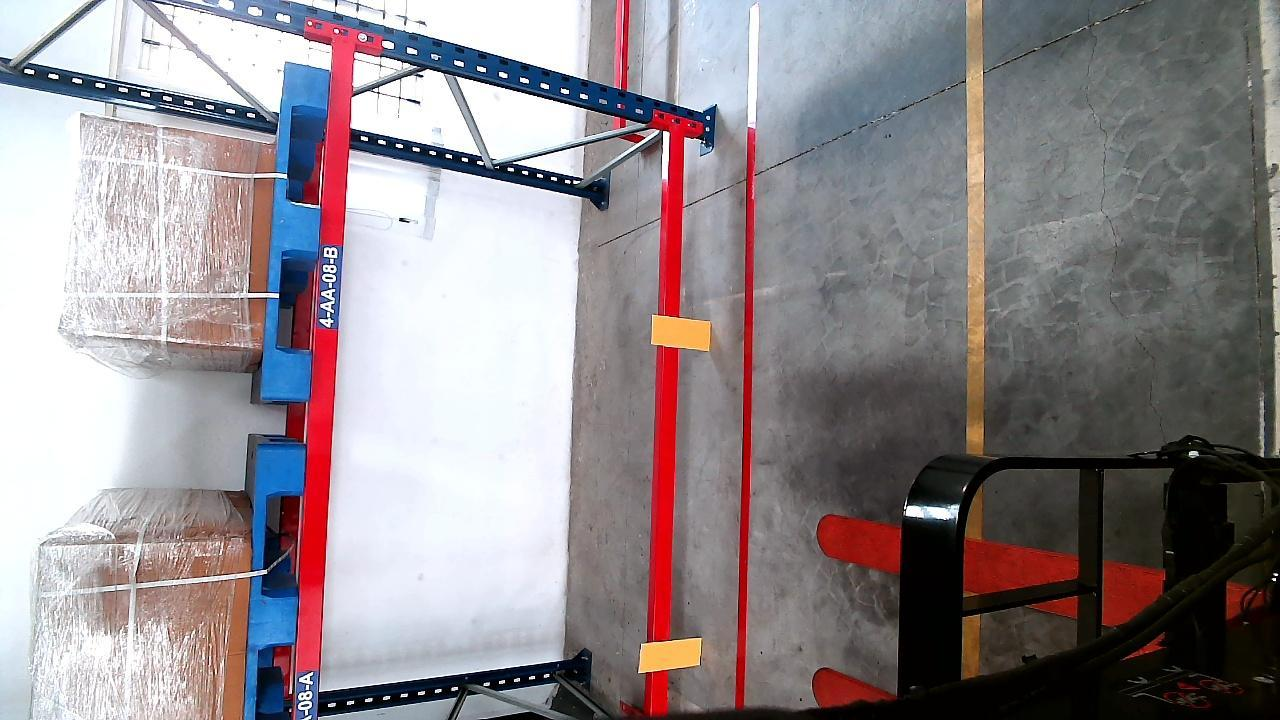red_line: (723, 119, 760, 709)
yellow_line: (965, 0, 990, 447)
